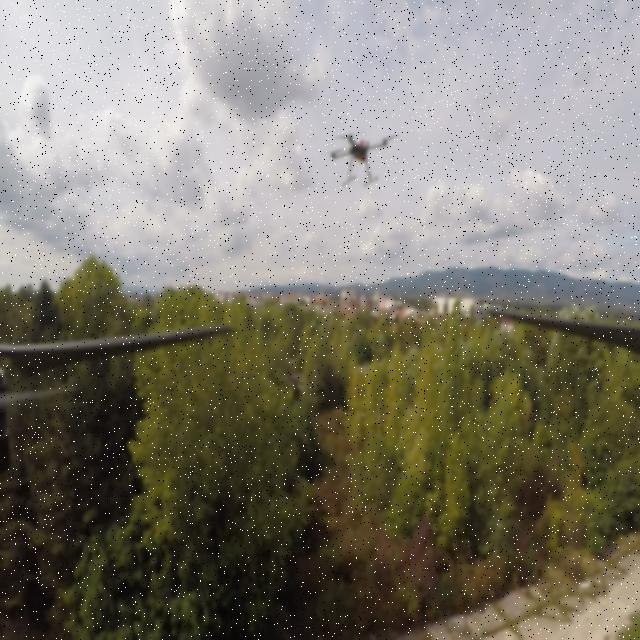UAV: (316, 119, 402, 192)
